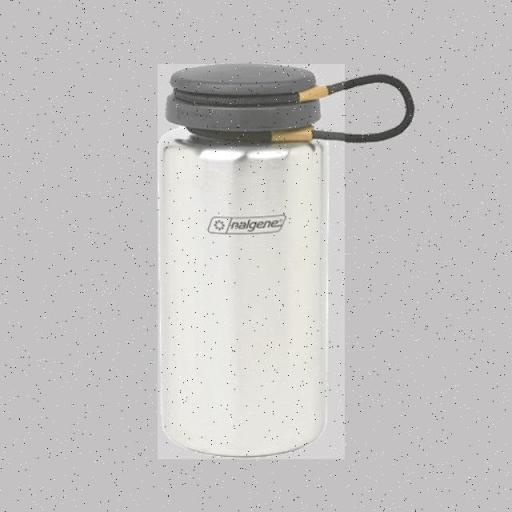bottle: (158, 64, 344, 460)
